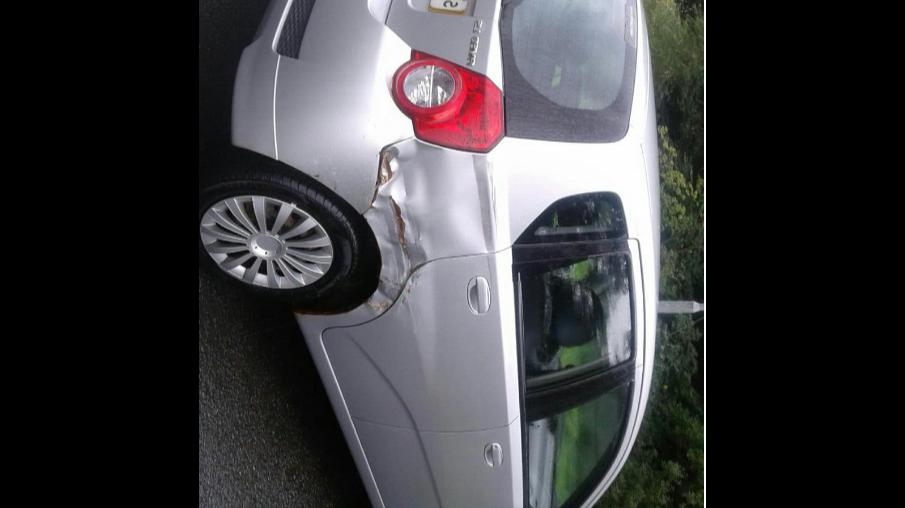Corrosion: (386, 194, 418, 266), (376, 144, 400, 184), (396, 268, 422, 302), (366, 298, 390, 312), (378, 276, 400, 290), (290, 312, 338, 318), (368, 202, 380, 210)
Dent: (356, 138, 454, 312), (450, 154, 494, 250), (388, 264, 430, 334)
Paint chip: (312, 170, 324, 178)
Scratch: (484, 158, 502, 232), (326, 150, 340, 188), (412, 214, 424, 248), (486, 254, 492, 288)
